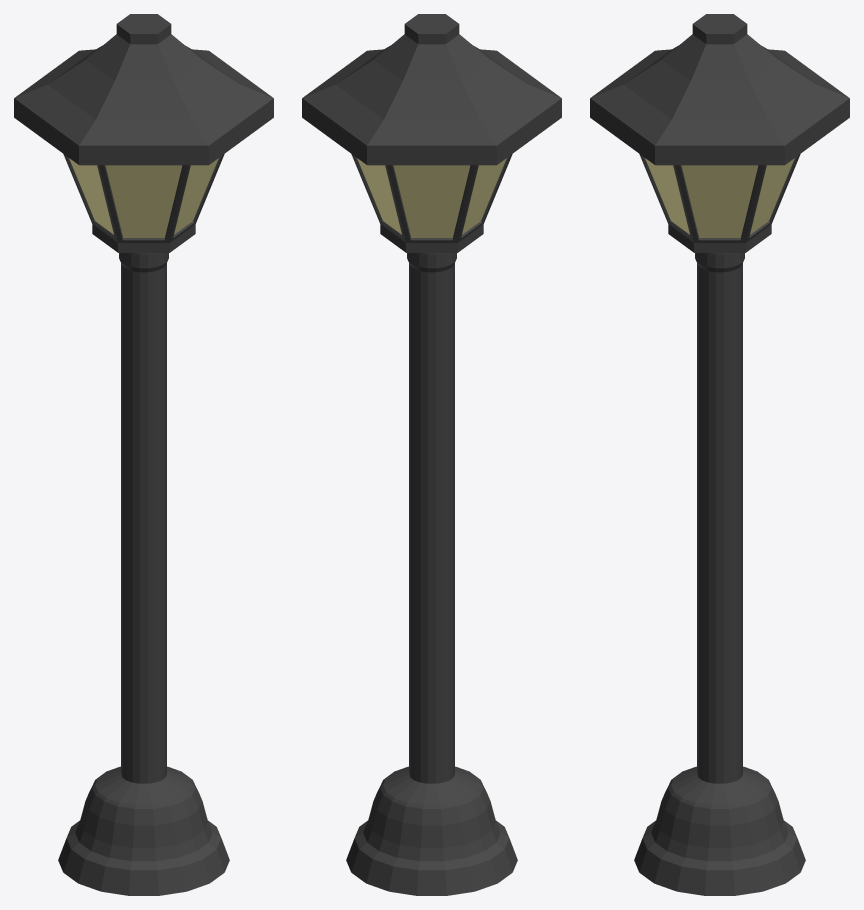
Rendered from Light.fbx.
The picture shows the model from 3 angles, left to right: view 1: azimuth 30°, elevation 25°; view 2: azimuth 150°, elevation 25°; view 3: azimuth 270°, elevation 25°; orthographic projection.
Visible parts, largest first — view 1: Cylinder.001; view 2: Cylinder.001; view 3: Cylinder.001.
Part boxes in pixels (<box>): Cylinder.001: <box>14,14,273,895</box>; Cylinder.001: <box>302,14,561,895</box>; Cylinder.001: <box>590,14,849,895</box>.
Size of the model in its own units: 72.25 by 296 by 83.42.
